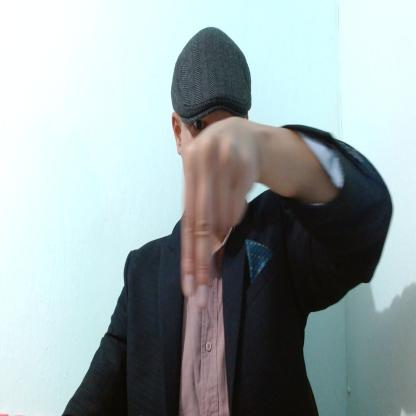N: (180, 117, 260, 307)
